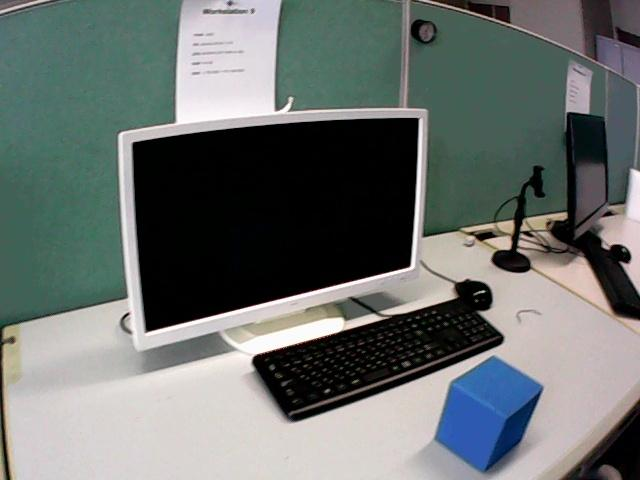blue_block: (436, 357, 542, 470)
